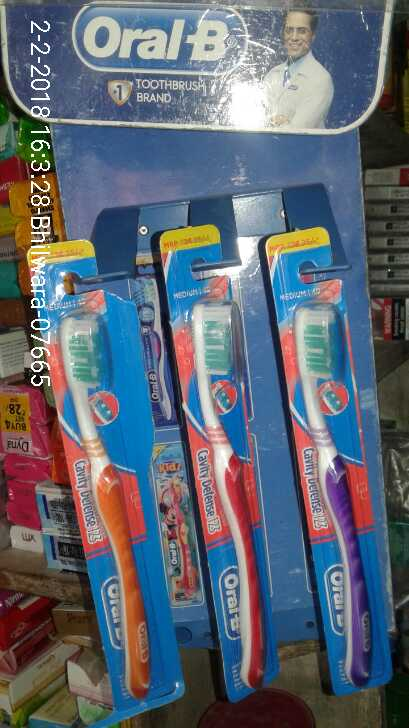oralb: (264, 223, 398, 691), (160, 238, 275, 690), (55, 308, 173, 700)
